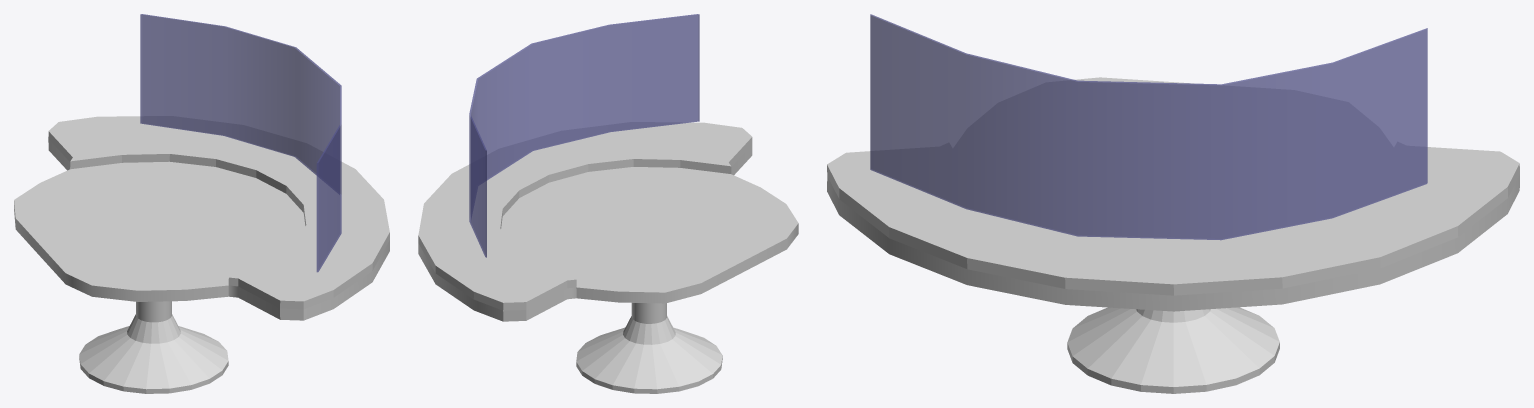
The model's file is table.fbx.
3 renders of one model, left to right at view 1: azimuth 30°, elevation 25°; view 2: azimuth 150°, elevation 25°; view 3: azimuth 270°, elevation 25°, orthographic. The views are drawn at different scales.
Parts seen in each view (by area): view 1: table; view 2: table; view 3: table.
Boxes of the visible parts, x1,y1,x2,y2 form: table: (14,14,389,393); table: (418,14,798,393); table: (827,14,1519,393).
Bounding box in the file's own units: 1.82 × 1.45 × 2.44.
